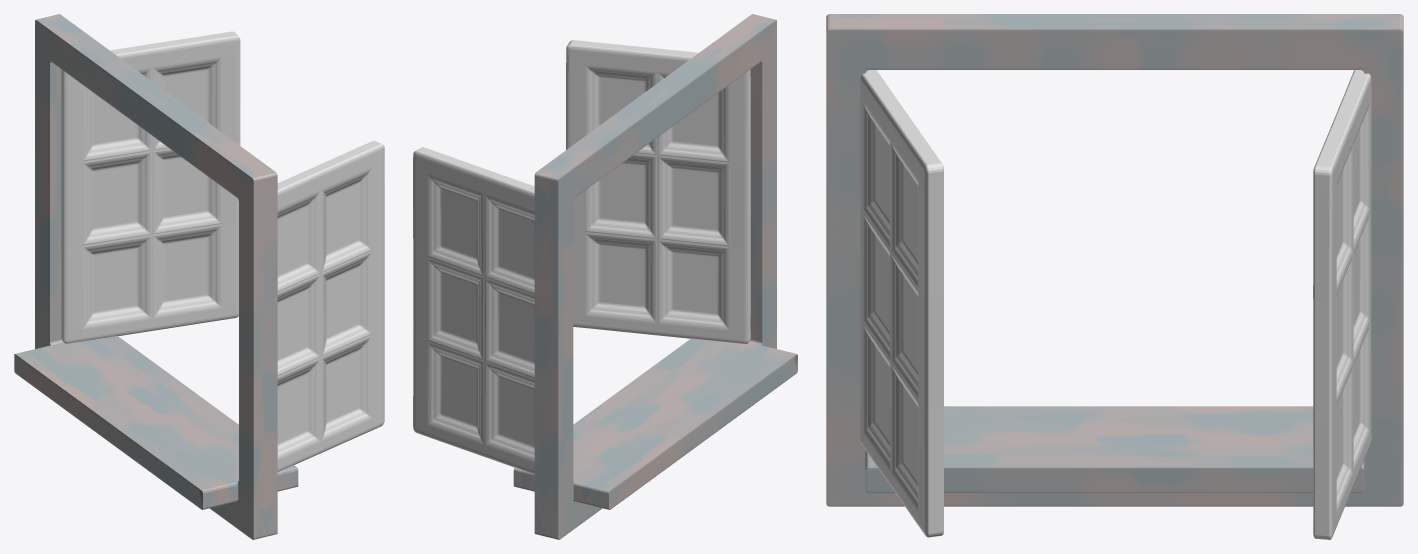
File: window.fbx
The picture shows the model from 3 angles, left to right: view 1: azimuth 30°, elevation 25°; view 2: azimuth 150°, elevation 25°; view 3: azimuth 270°, elevation 25°; orthographic projection. The views are drawn at different scales.
Visible parts, largest first — view 1: WindowSill, right_window, left_window; view 2: WindowSill, left_window, right_window; view 3: WindowSill, left_window, right_window.
Boxes of the visible parts, left/top/right/bottom form: WindowSill: left=14, top=14, right=298, bottom=539; right_window: left=61, top=31, right=240, bottom=343; left_window: left=277, top=141, right=384, bottom=471; WindowSill: left=513, top=14, right=797, bottom=539; left_window: left=566, top=40, right=750, bottom=343; right_window: left=413, top=147, right=534, bottom=474; WindowSill: left=826, top=14, right=1403, bottom=506; left_window: left=860, top=70, right=943, bottom=537; right_window: left=1313, top=70, right=1371, bottom=539.
Size of the model in its own units: 1.62 by 2.68 by 2.94.
